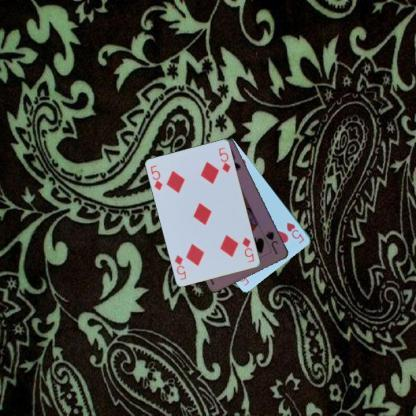5d: (240, 235, 256, 264), (148, 163, 164, 192)
5h: (284, 220, 306, 245)
Js: (263, 229, 280, 256)
